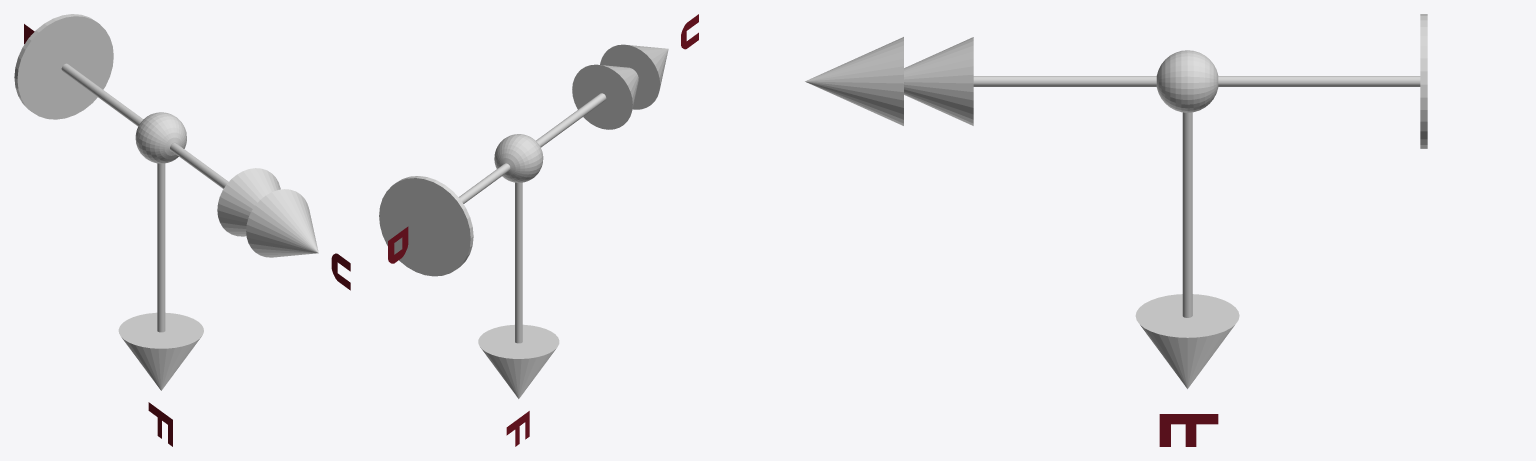
File: handgizmo.fbx
3 renders of one model, left to right at view 1: azimuth 30°, elevation 25°; view 2: azimuth 150°, elevation 25°; view 3: azimuth 270°, elevation 25°, orthographic. The views are drawn at different scales.
Visible parts, largest first — view 1: positioning gizmo; view 2: positioning gizmo; view 3: positioning gizmo.
Part boxes in pixels (<box>): positioning gizmo: <box>14,14,350,446</box>; positioning gizmo: <box>379,14,698,446</box>; positioning gizmo: <box>805,14,1427,446</box>.
Size of the model in its own units: 4.33 by 15.09 by 25.46.
